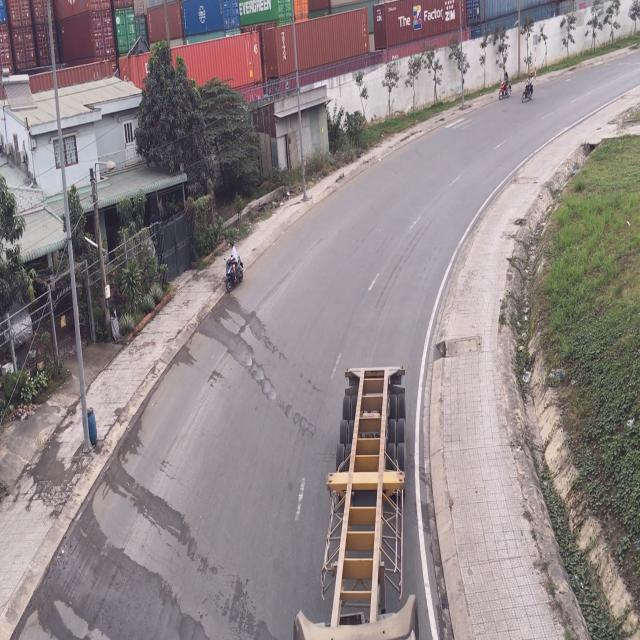motorbike: (226, 244, 246, 295), (498, 65, 512, 102)
truck: (296, 360, 420, 640), (520, 71, 535, 103)
